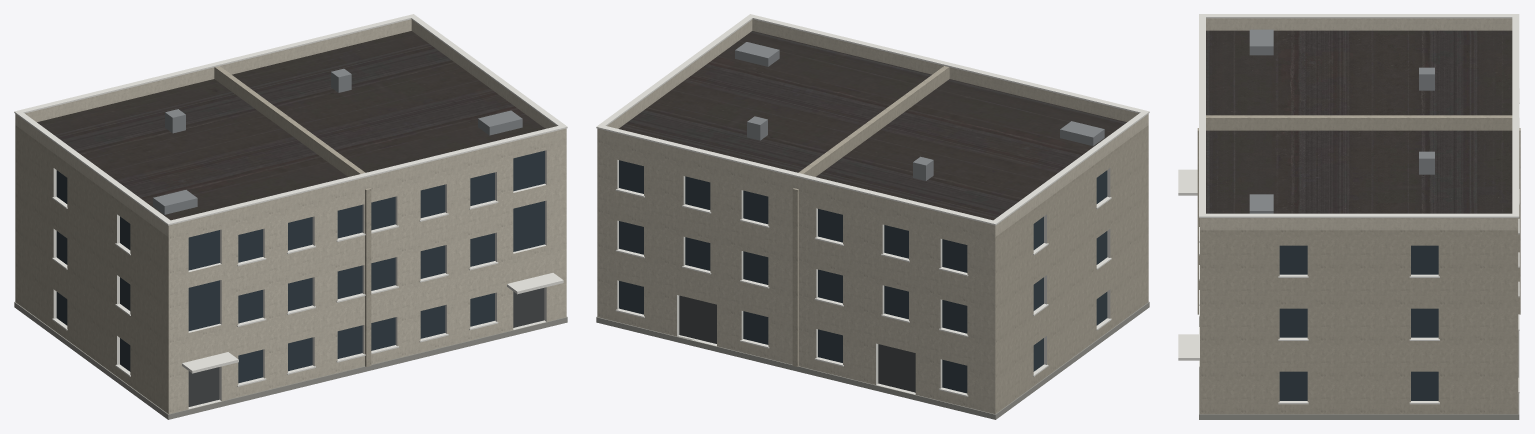
Rendered from two-unit-apartments.glb.
3 views of the same model, side by side, from view 1: azimuth 30°, elevation 25°; view 2: azimuth 150°, elevation 25°; view 3: azimuth 270°, elevation 25° (orthographic). The views are drawn at different scales.
Parts seen in each view (by area): view 1: two-unit-apartments; view 2: two-unit-apartments; view 3: two-unit-apartments.
Part boxes in pixels (<box>): two-unit-apartments: <box>14,14,567,419</box>; two-unit-apartments: <box>596,14,1149,419</box>; two-unit-apartments: <box>1178,14,1520,419</box>.
Bounding box in the file's own units: 24.12 × 11.4 × 17.22.
Materials: 8 (3 with a texture image).
